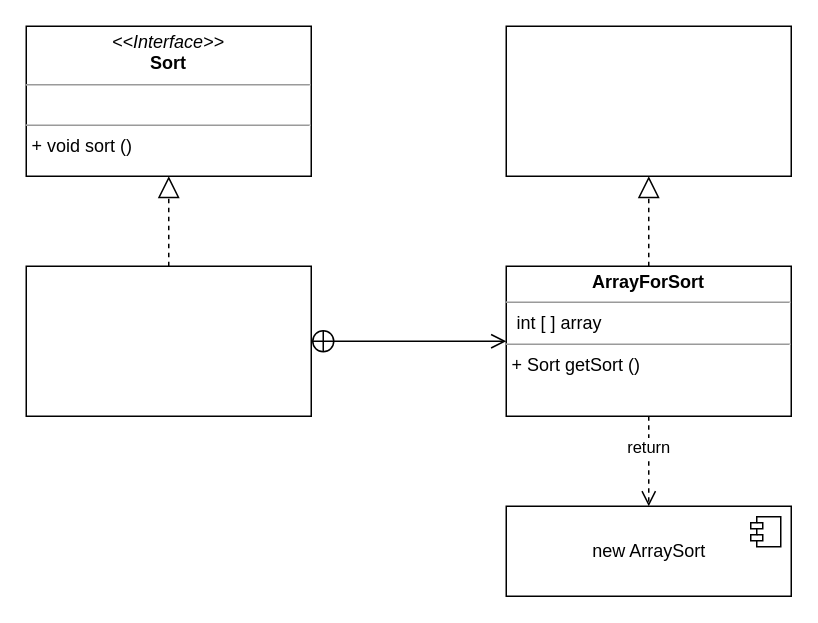
The diagram is 818 pixels wide and 623 high, and some of its shapes have lost their labels. The shapes that lost their labels are listed below. From the top down, each one's box as (x1, y1, x2, y2) in pixels, then its label:
(505, 25, 791, 176): <<Interface>> Aggregate + Sort getSort ()
(25, 265, 311, 416): ArraySort + void sort ()
